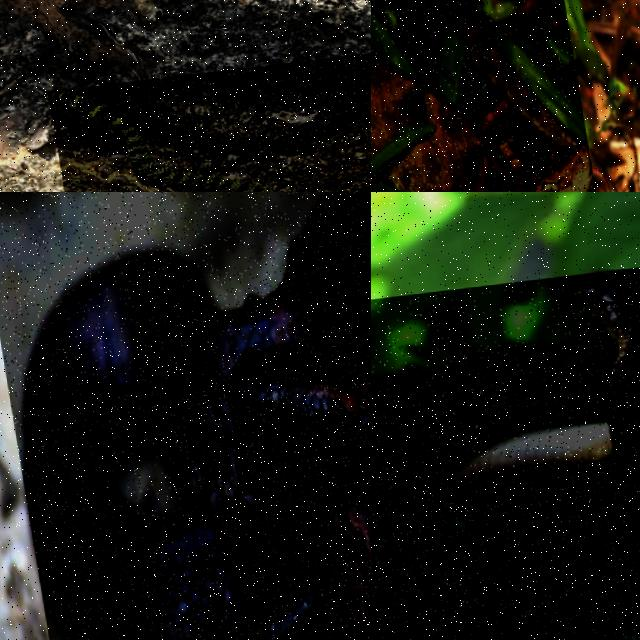Calloselasma rhodostoma: (371, 0, 592, 191)
Chrysopelea ornata: (49, 90, 271, 191)
Naja kaouthia: (449, 270, 639, 546)
Ovophis monticola: (25, 192, 370, 639)
snake: (25, 192, 370, 639), (449, 270, 639, 546), (371, 0, 592, 191), (49, 90, 271, 191)
